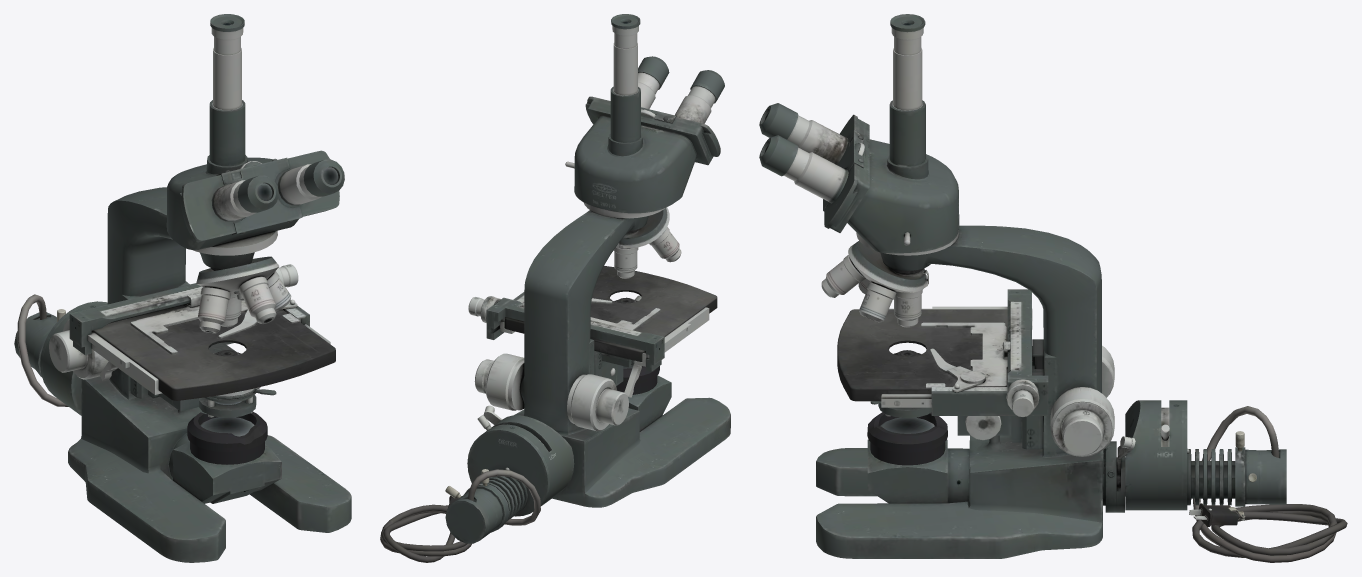
The model's file is microscope.glb.
The picture shows the model from 3 angles, left to right: view 1: azimuth 30°, elevation 25°; view 2: azimuth 150°, elevation 25°; view 3: azimuth 270°, elevation 25°; orthographic projection. The views are drawn at different scales.
Parts seen in each view (by area): view 1: industrial_microscope, industrial_microscope_cable; view 2: industrial_microscope, industrial_microscope_cable; view 3: industrial_microscope, industrial_microscope_cable.
Boxes of the visible parts, left/top/right/bottom form: industrial_microscope: left=14, top=14, right=351, bottom=562; industrial_microscope_cable: left=17, top=294, right=68, bottom=406; industrial_microscope: left=445, top=14, right=730, bottom=543; industrial_microscope_cable: left=380, top=469, right=540, bottom=562; industrial_microscope: left=759, top=14, right=1286, bottom=558; industrial_microscope_cable: left=1189, top=406, right=1347, bottom=562.
Size of the model in its own units: 0.2145 by 0.4617 by 0.4981.
1 material, 1 textured.
